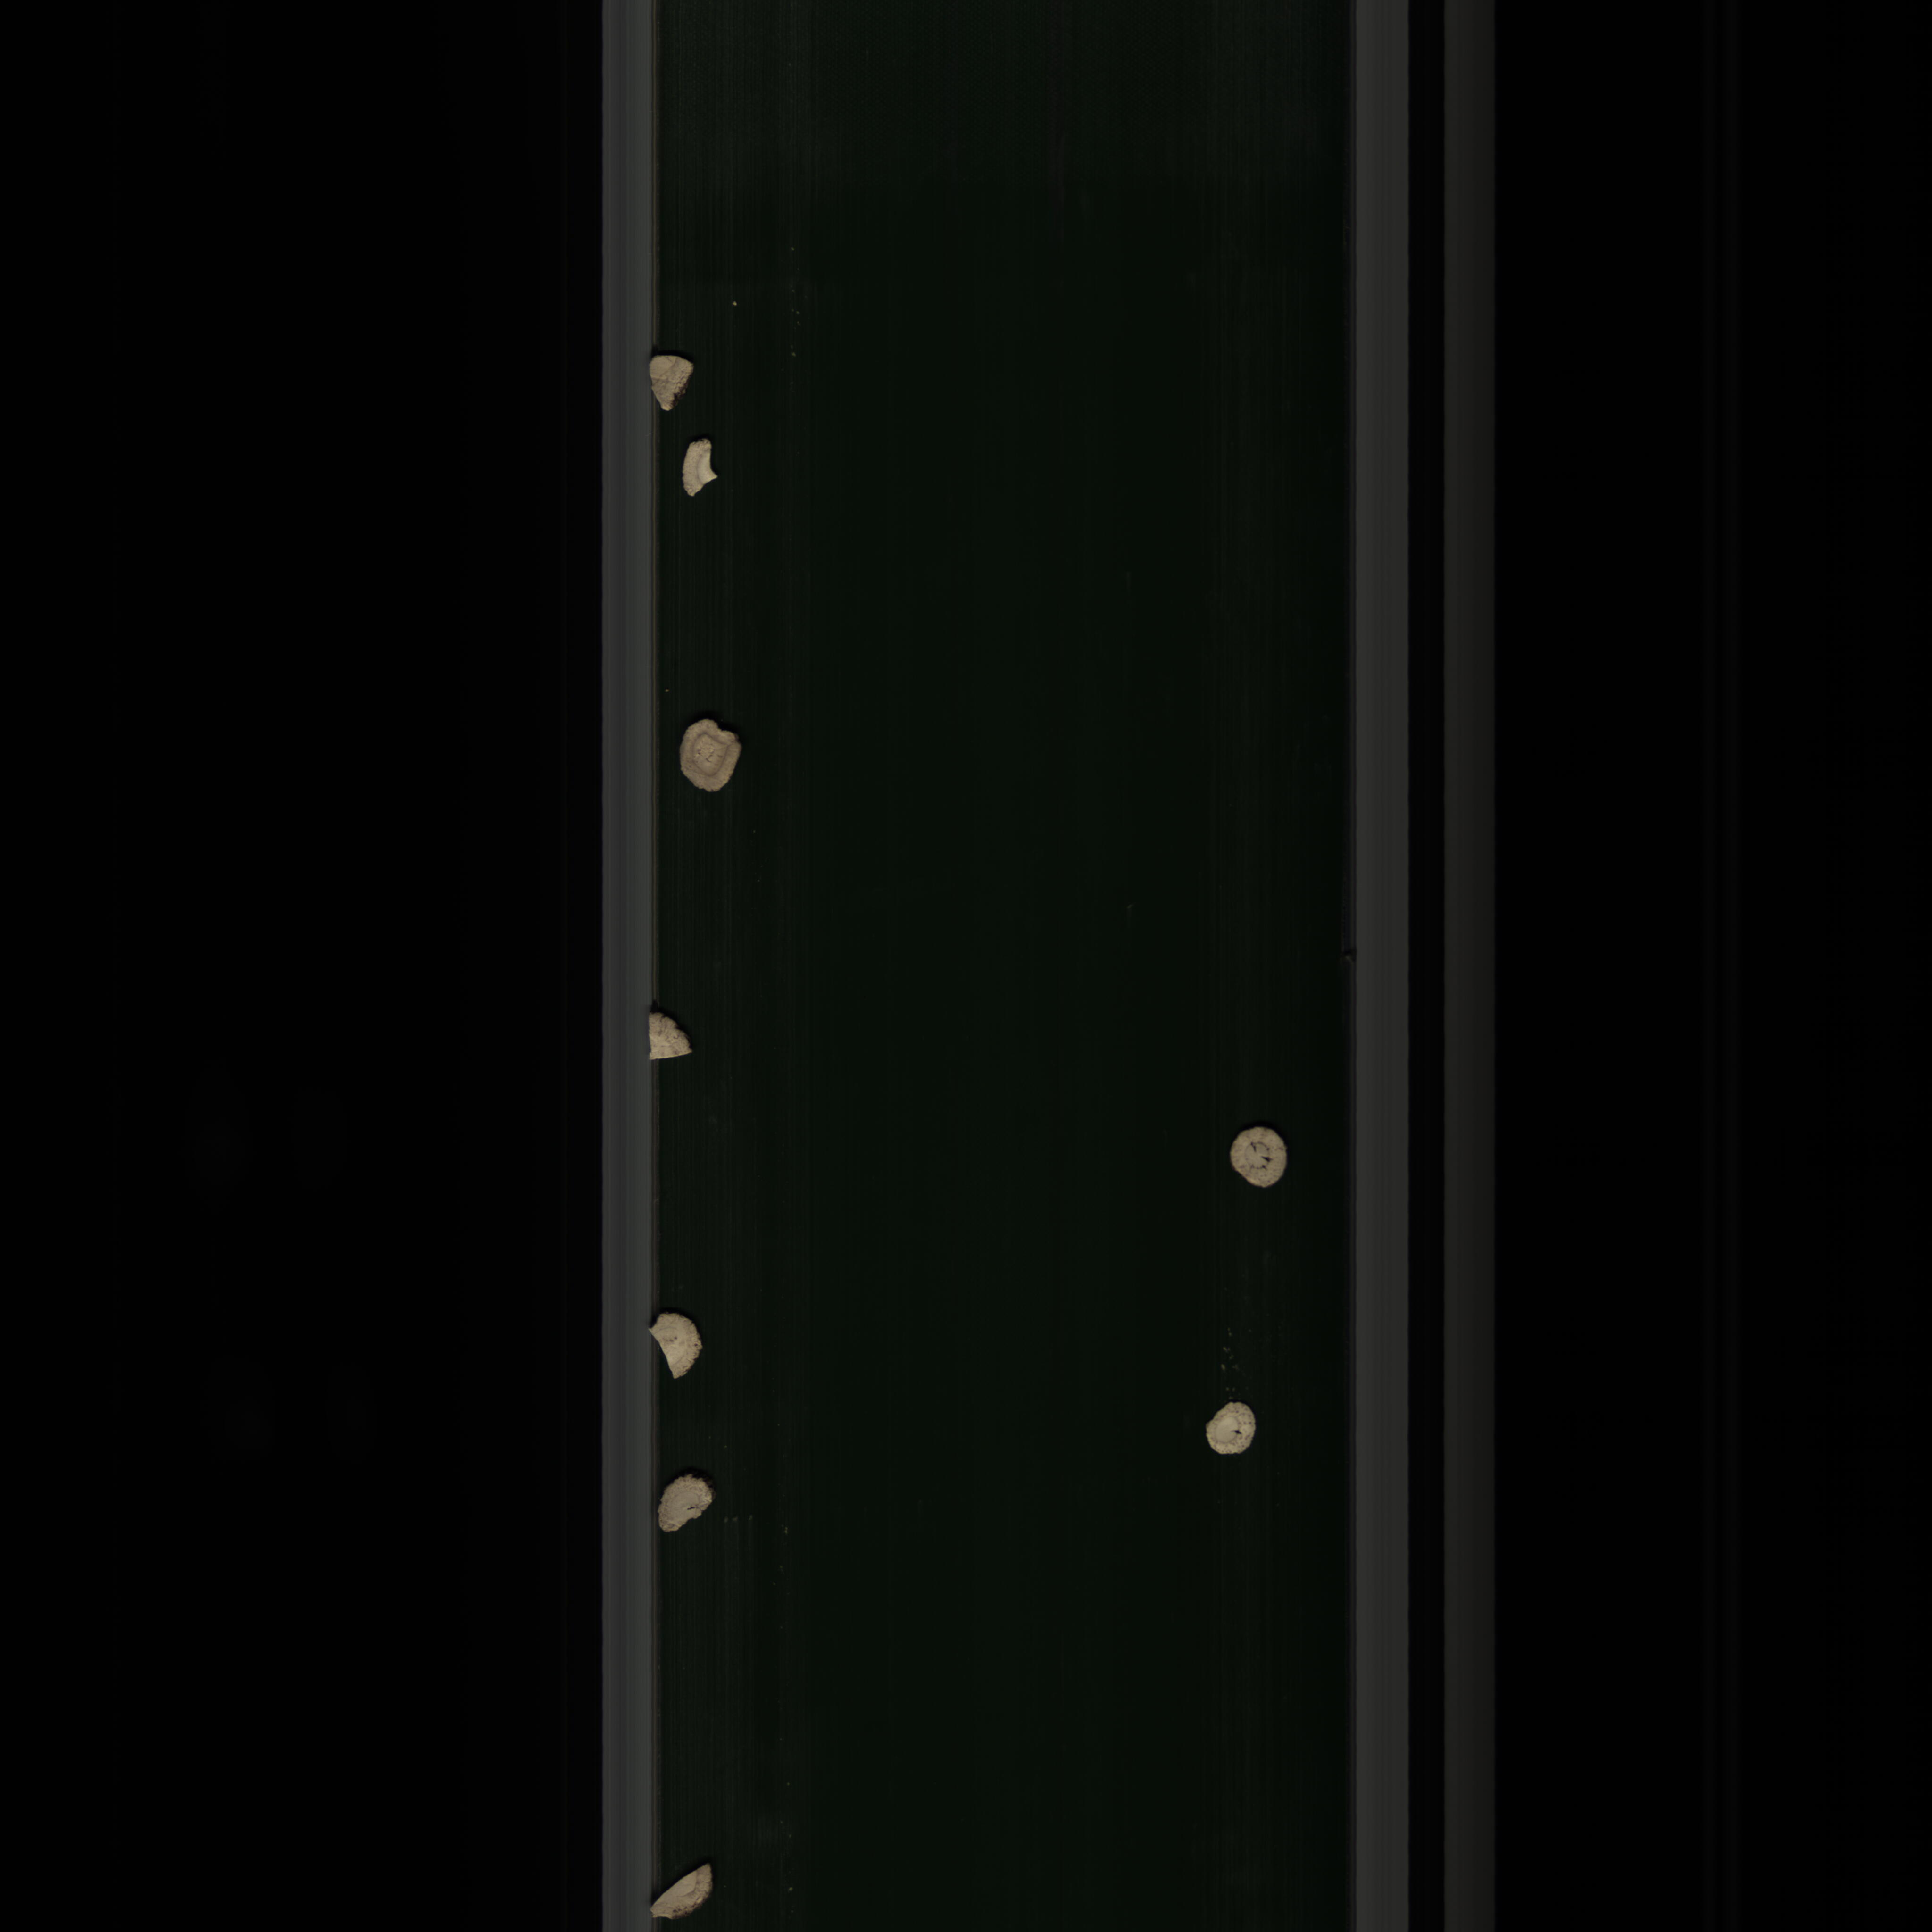debris: (633, 1311, 713, 1387), (635, 1003, 699, 1074), (653, 1474, 717, 1543), (646, 349, 701, 423), (678, 432, 729, 510)
hole: (1215, 1122, 1295, 1200), (1196, 1396, 1261, 1470)
